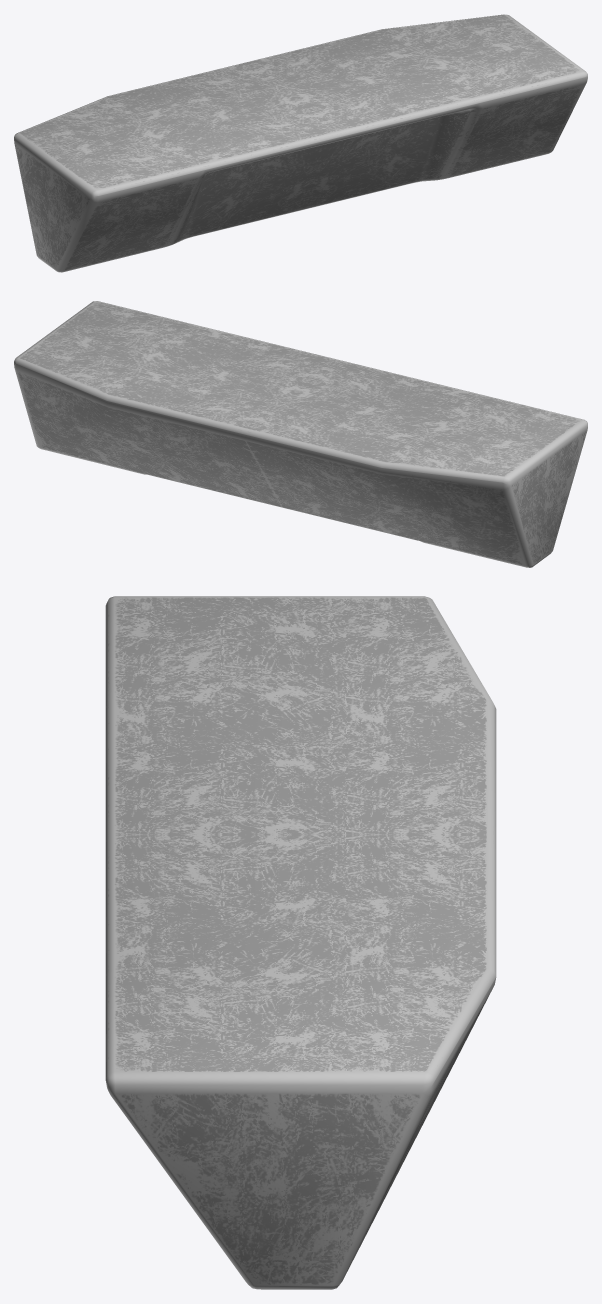
Rendered from panel_NEW.fbx.
3 renders of one model, top to bottom at view 1: azimuth 30°, elevation 25°; view 2: azimuth 150°, elevation 25°; view 3: azimuth 270°, elevation 25°, orthographic. The views are drawn at different scales.
Visible parts, largest first — view 1: Plane.001; view 2: Plane.001; view 3: Plane.001.
Boxes of the visible parts, x1,y1,x2,y2 form: Plane.001: [14, 14, 587, 272]; Plane.001: [14, 301, 587, 567]; Plane.001: [105, 596, 496, 1289].
Size of the model in its own units: 255 by 53.27 by 87.02.
1 material, 1 textured.
